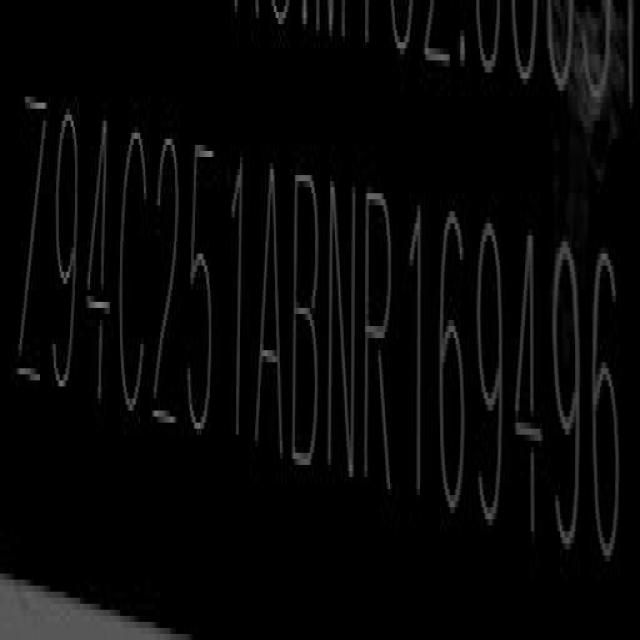1: (409, 200, 430, 509), (229, 147, 245, 452)
2: (154, 125, 183, 432)
4: (513, 224, 545, 545), (87, 108, 115, 410)
5: (189, 129, 220, 443)
6: (592, 241, 623, 570), (438, 208, 468, 516)
9: (549, 237, 582, 563), (49, 101, 80, 403), (475, 220, 505, 532)
A: (257, 158, 286, 461)
B: (293, 161, 325, 471)
C: (119, 124, 154, 427)
N: (328, 172, 358, 480)
R: (363, 182, 396, 493)
Z: (18, 88, 46, 396)
